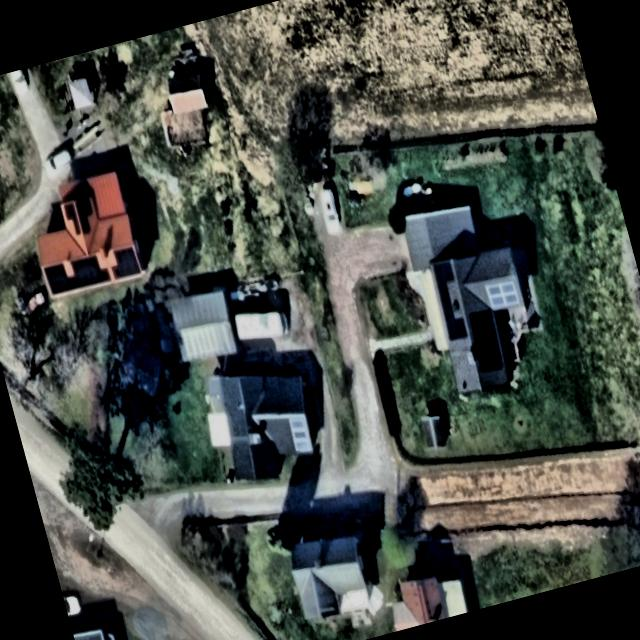roof_pv: (430, 258, 470, 342), (464, 302, 506, 376), (72, 254, 112, 292), (42, 258, 73, 303), (106, 242, 142, 280), (104, 264, 121, 284), (65, 274, 81, 293)
